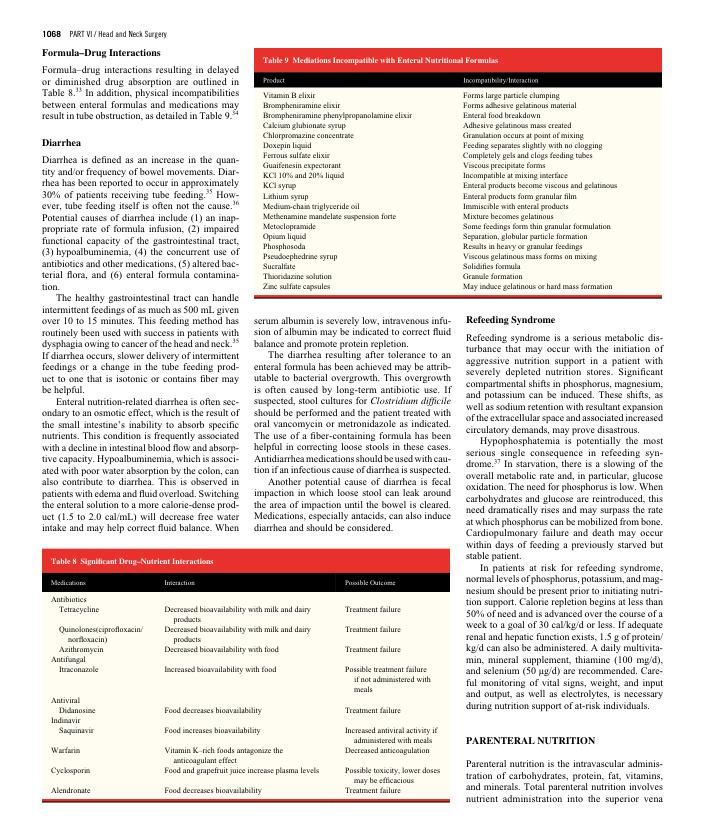caption: (262, 56, 499, 66), (50, 557, 214, 566)
header: (69, 29, 169, 40)
section-heading: (465, 736, 596, 745)
sub-section-heading: (41, 47, 162, 59), (465, 314, 557, 326), (40, 137, 82, 148)
table: (42, 572, 451, 802), (254, 70, 662, 298)
text: (40, 154, 242, 534), (465, 332, 664, 713), (252, 315, 452, 534), (41, 65, 240, 121), (464, 758, 664, 806)
